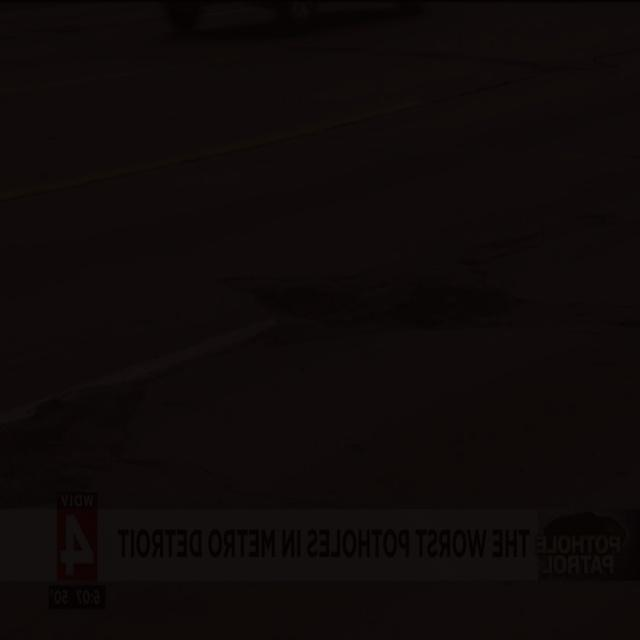Pothole: (232, 262, 515, 348), (0, 372, 152, 505)
